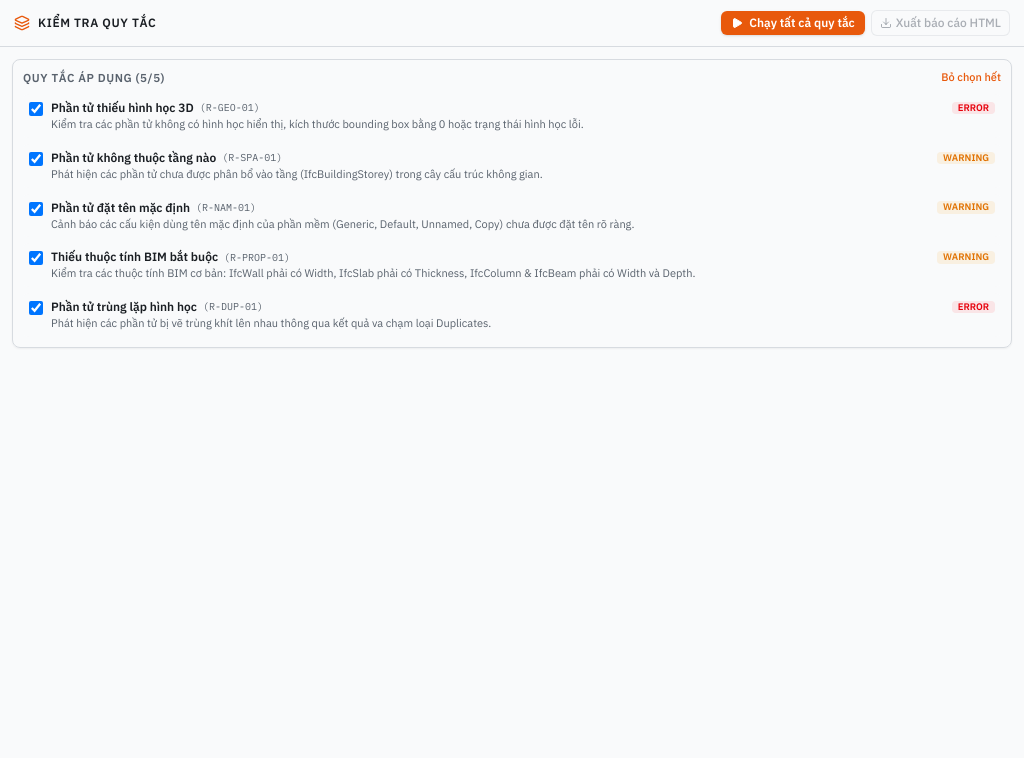
it: RulePanel Component › runs rule check, displays violation statistics and issues list
Click the button with test id "run-rules-btn": (793, 23) [721,11,865,35]
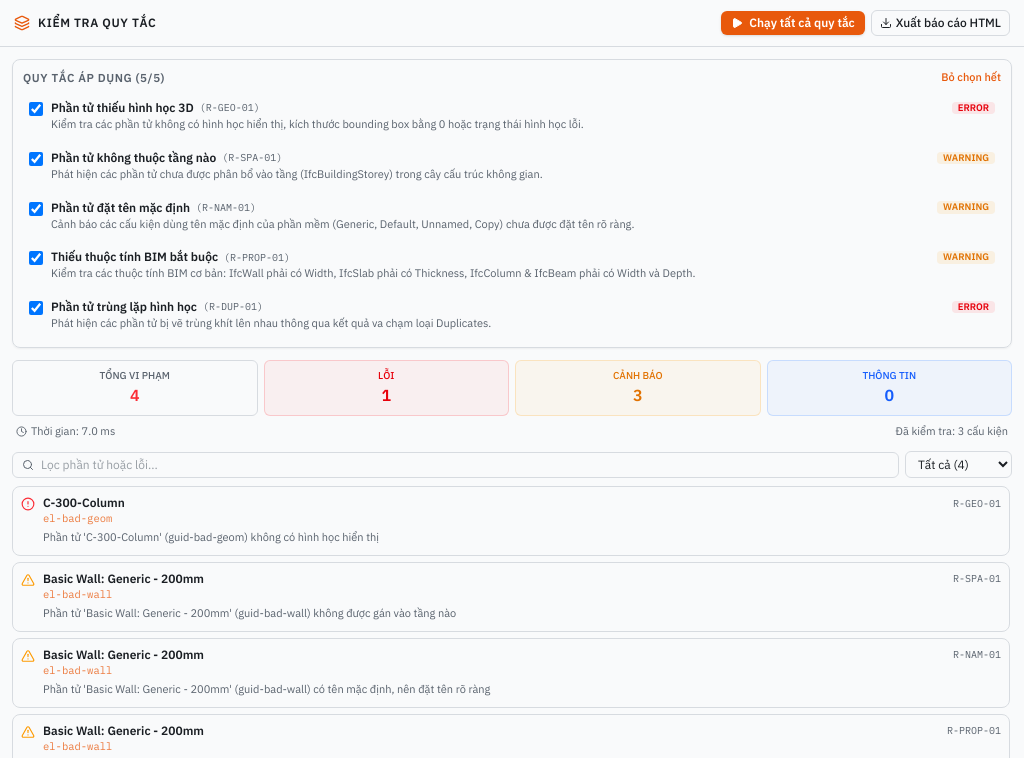
Check: the text "4" is shown, box [130,385,140,405]
Check: the 1st text "Basic Wall: Generic - 200mm" is shown, box [43,571,204,587]
Check: the text "C-300-Column" is shown, box [43,495,125,511]
